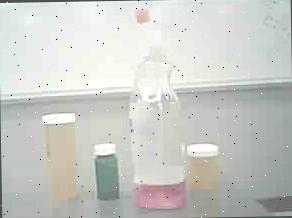Bottle A: (38, 110, 86, 202)
Bottle B: (188, 140, 224, 189)
Bottle C: (90, 140, 122, 202)
hazard: (124, 5, 190, 214)
